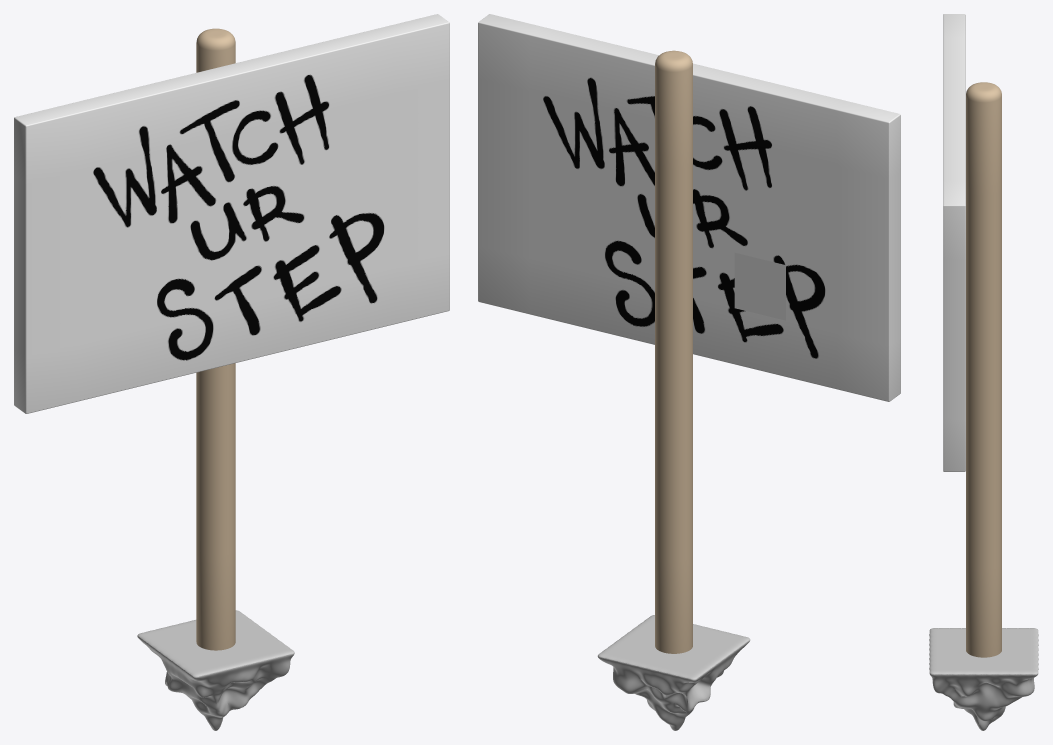
Rendered from LooDreams_VR_Assets_RX_LooneyTunesSign.fbx.
3 renders of one model, left to right at view 1: azimuth 30°, elevation 25°; view 2: azimuth 150°, elevation 25°; view 3: azimuth 270°, elevation 25°, orthographic. The views are drawn at different scales.
Visible parts, largest first — view 1: Sign, Post, Ground; view 2: Sign, Post, Ground; view 3: Post, Sign, Ground.
Part boxes in pixels (x1=…): Sign: x1=14, y1=14, x2=449, y2=413; Post: x1=196, y1=28, x2=235, y2=650; Ground: x1=137, y1=610, x2=294, y2=730; Sign: x1=478, y1=14, x2=900, y2=401; Post: x1=655, y1=50, x2=692, y2=653; Ground: x1=597, y1=615, x2=750, y2=730; Post: x1=966, y1=82, x2=1001, y2=657; Sign: x1=943, y1=14, x2=965, y2=471; Ground: x1=929, y1=628, x2=1038, y2=730.
Size of the model in its own units: 100 by 157 by 24.08.
4 materials, 1 textured.
